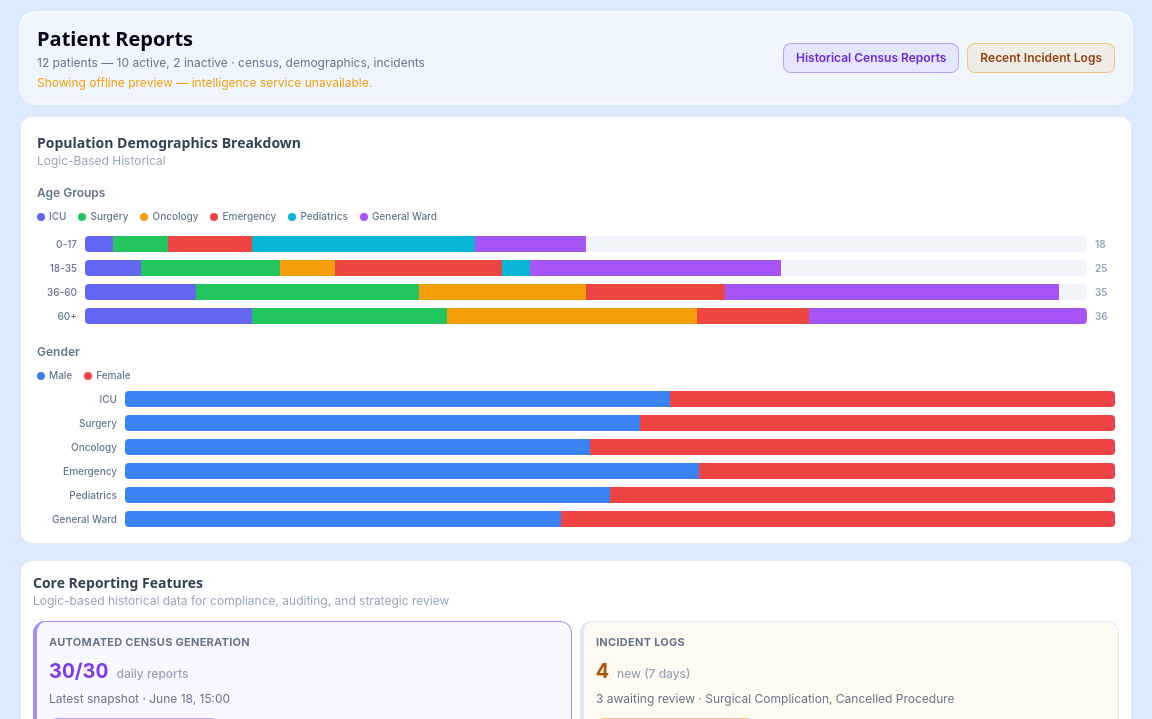
Test: PatientReports dialogs › portals the census dialog above the dashboard and closes from its enlarged action
What coordinates should you click on to do the following:
click the button "Historical Census Reports"
I would click on:
 (871, 58)
Its box is [783, 43, 959, 73].
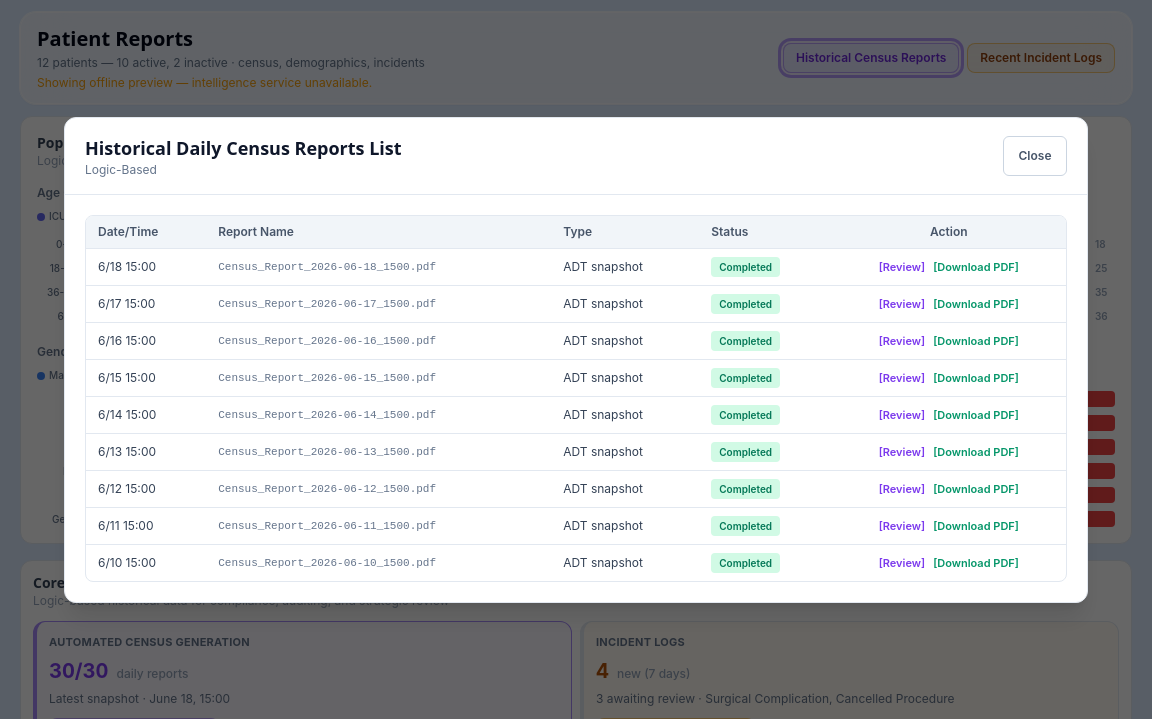
What coordinates should you click on to do the following:
click the button "Close"
I would click on:
 (1035, 156)
Its box is [1003, 136, 1067, 176].
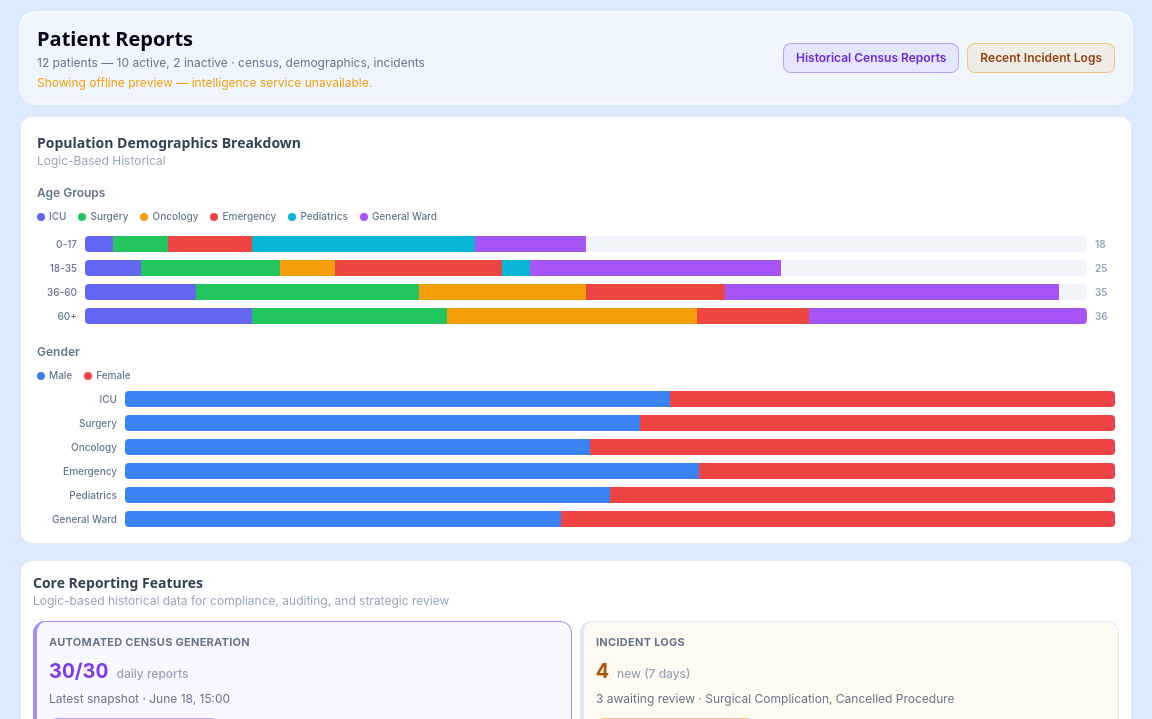
Now the heading "Historical Daily Census Reports List" is gone
